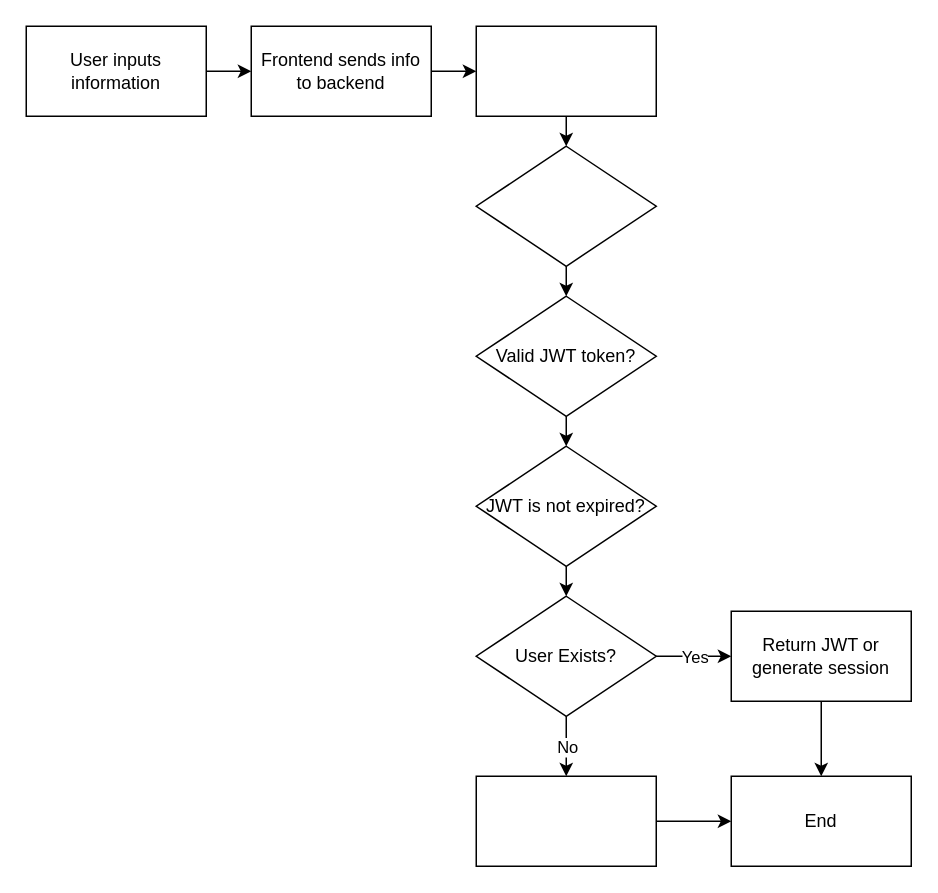
Some shapes in this 938 by 893 pixel diagram are drawn without their labels. Each missing label, with the box of its shape:
JWT token creation: (475, 25, 656, 116)
Return Error: (475, 775, 656, 866)
Valid JWT syntax?: (475, 145, 656, 266)
